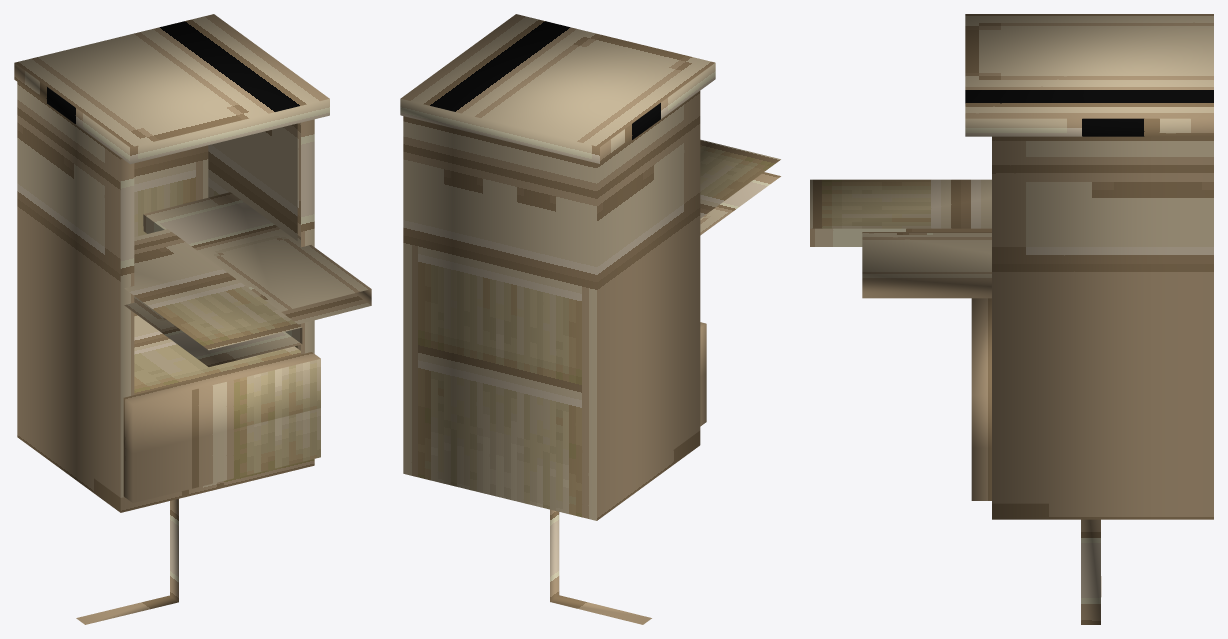
The picture shows the model from 3 angles, left to right: view 1: azimuth 30°, elevation 25°; view 2: azimuth 150°, elevation 25°; view 3: azimuth 270°, elevation 25°; orthographic projection. The views are drawn at different scales.
Parts seen in each view (by area): view 1: 3222IMSD01_08; view 2: 3222IMSD01_08; view 3: 3222IMSD01_08.
Boxes of the visible parts, x1,y1,x2,y2 form: 3222IMSD01_08: (14, 14, 371, 624); 3222IMSD01_08: (400, 14, 780, 624); 3222IMSD01_08: (810, 14, 1213, 624).
Size of the model in its own units: 0.9756 by 2.42 by 1.59.
Materials: 2 (2 with a texture image).
